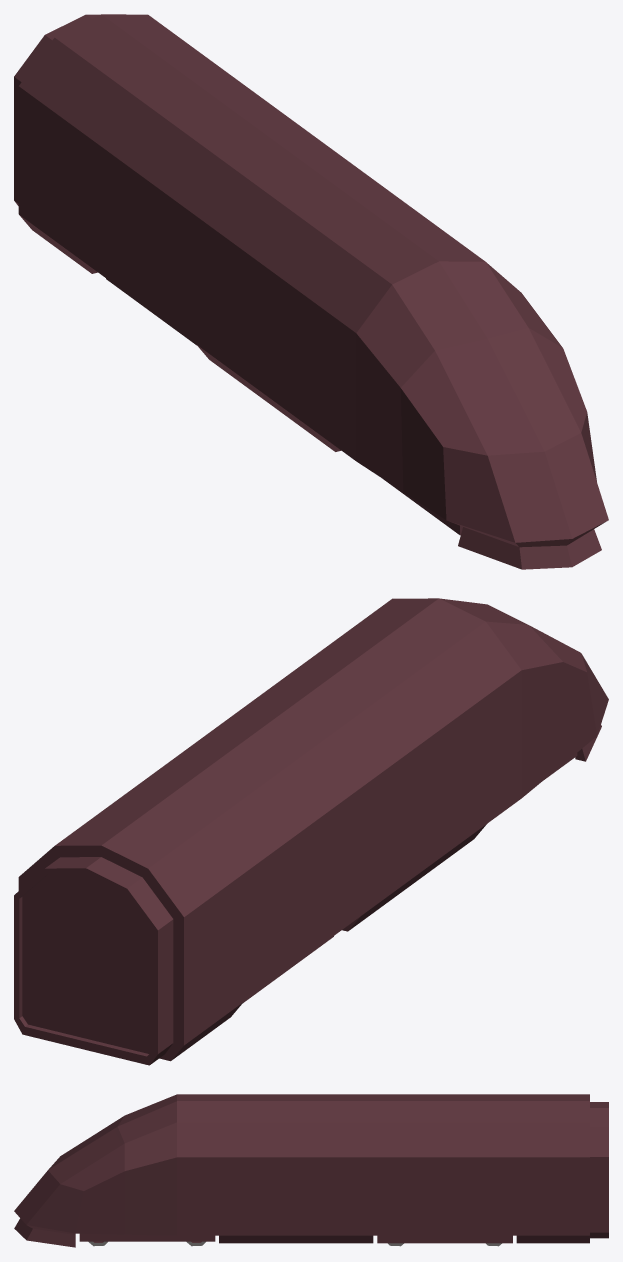
The model's file is vehicles-train-speed.glb.
3 views of the same model, one above another, from view 1: azimuth 30°, elevation 25°; view 2: azimuth 150°, elevation 25°; view 3: azimuth 270°, elevation 25° (orthographic). The views are drawn at different scales.
Parts seen in each view (by area): view 1: train-speed-base; view 2: train-speed-base; view 3: train-speed-base, train-speed-wheel-frame_B, train-speed-wheel-frame_F.
Part boxes in pixels (x1,y1,x2,y2): train-speed-base: [14, 14, 608, 569]; train-speed-base: [14, 598, 608, 1065]; train-speed-base: [14, 1094, 608, 1247]; train-speed-wheel-frame_B: [377, 1235, 512, 1243]; train-speed-wheel-frame_F: [79, 1233, 215, 1241].
Bounding box in the file's own units: 3.1 × 3.92 × 15.79.
